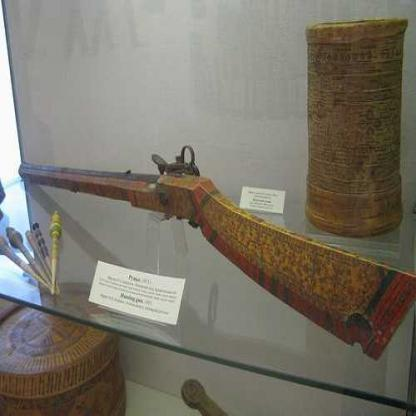rifle: (11, 143, 415, 375)
